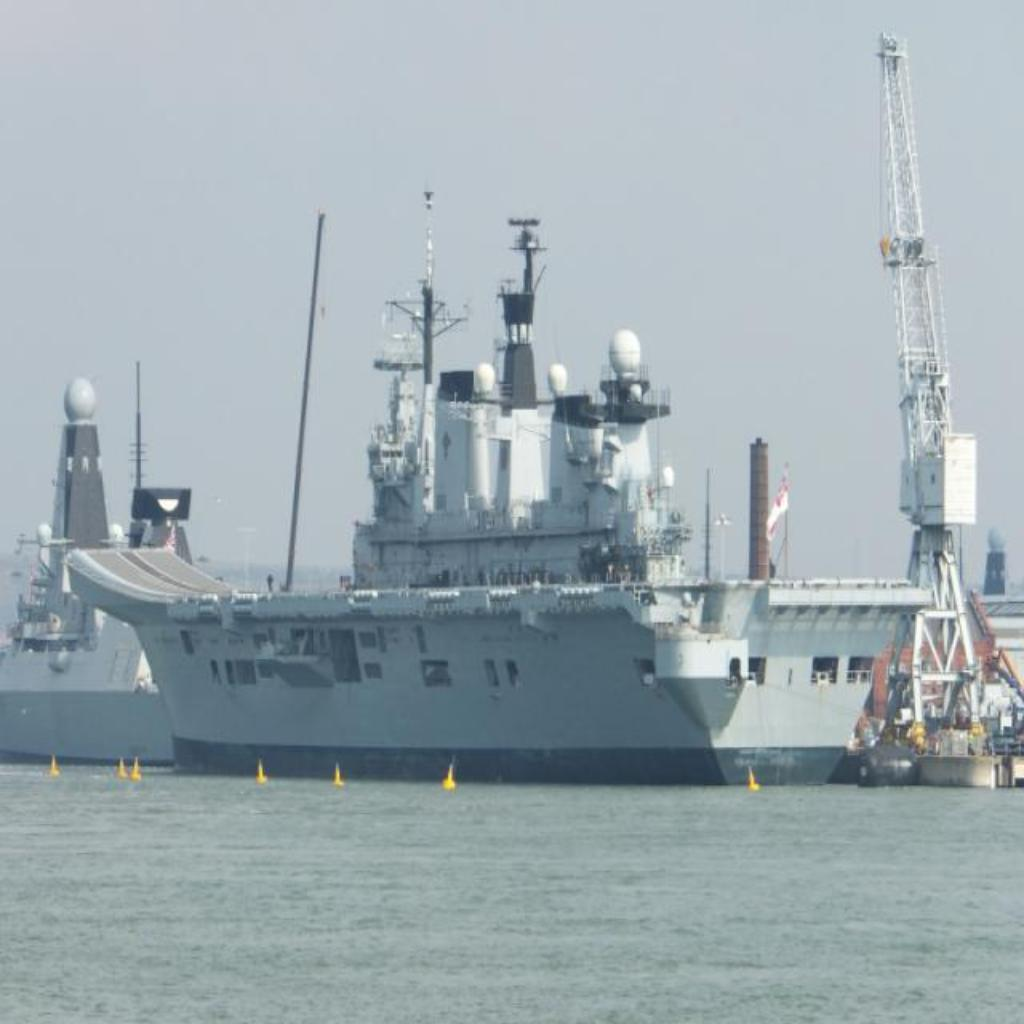Warship: (64, 206, 936, 786), (0, 345, 220, 771)
